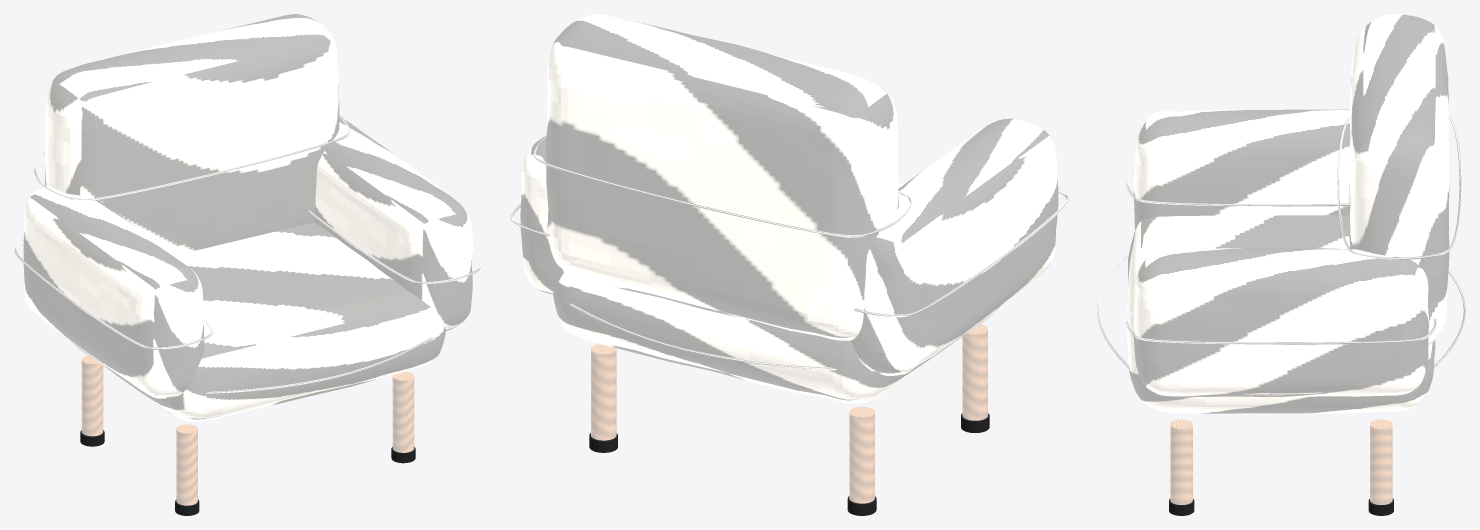
The model's file is ref07_02.glb.
3 views of the same model, side by side, from view 1: azimuth 30°, elevation 25°; view 2: azimuth 150°, elevation 25°; view 3: azimuth 270°, elevation 25° (orthographic). The views are drawn at different scales.
Visible parts, largest first — view 1: ref07_02; view 2: ref07_02; view 3: ref07_02.
Part boxes in pixels (bbox=[...]): ref07_02: bbox=[14, 14, 481, 515]; ref07_02: bbox=[510, 14, 1068, 515]; ref07_02: bbox=[1097, 14, 1465, 515].
Size of the model in its own units: 0.9449 by 0.9341 by 0.8127.
3 materials, 2 textured.
